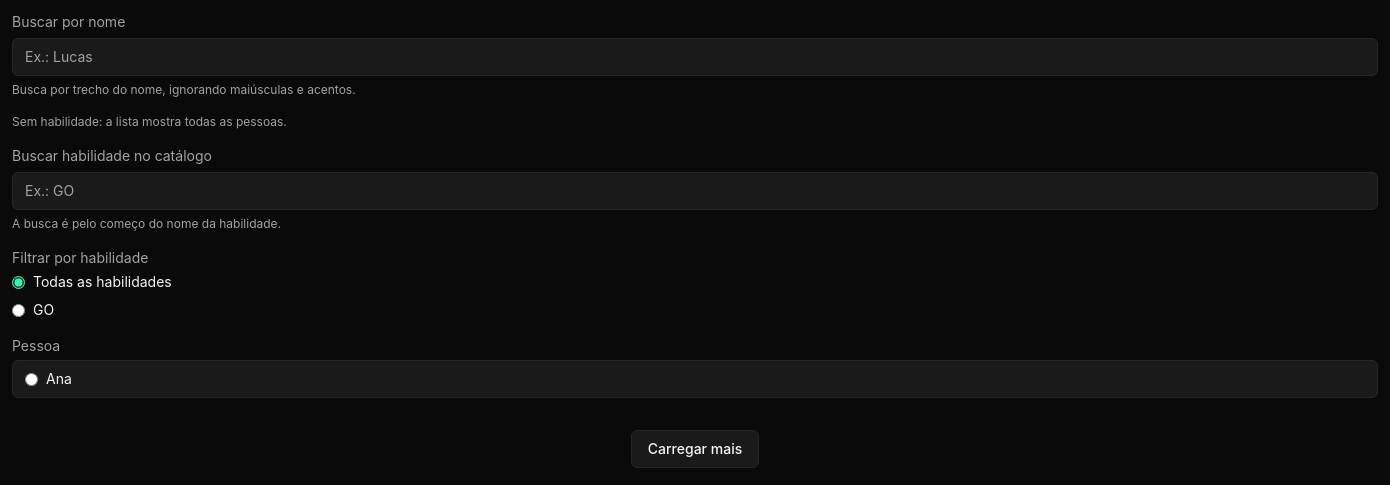
Scenario: PersonPicker › carregar mais busca a próxima página
Expected: the radio button labelled "Ana" is shown, [25,372,38,386]
Step 1. Click the button "Carregar mais" → (695, 449), box [631,430,759,468]
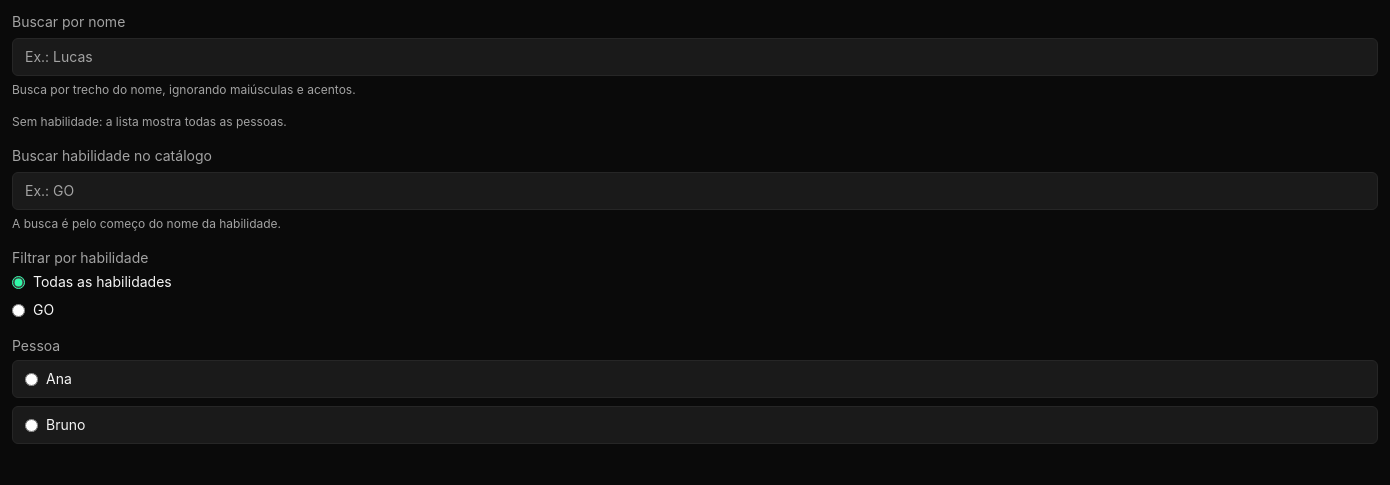
Expected: the radio button labelled "Bruno" is shown, [25,418,38,432]
